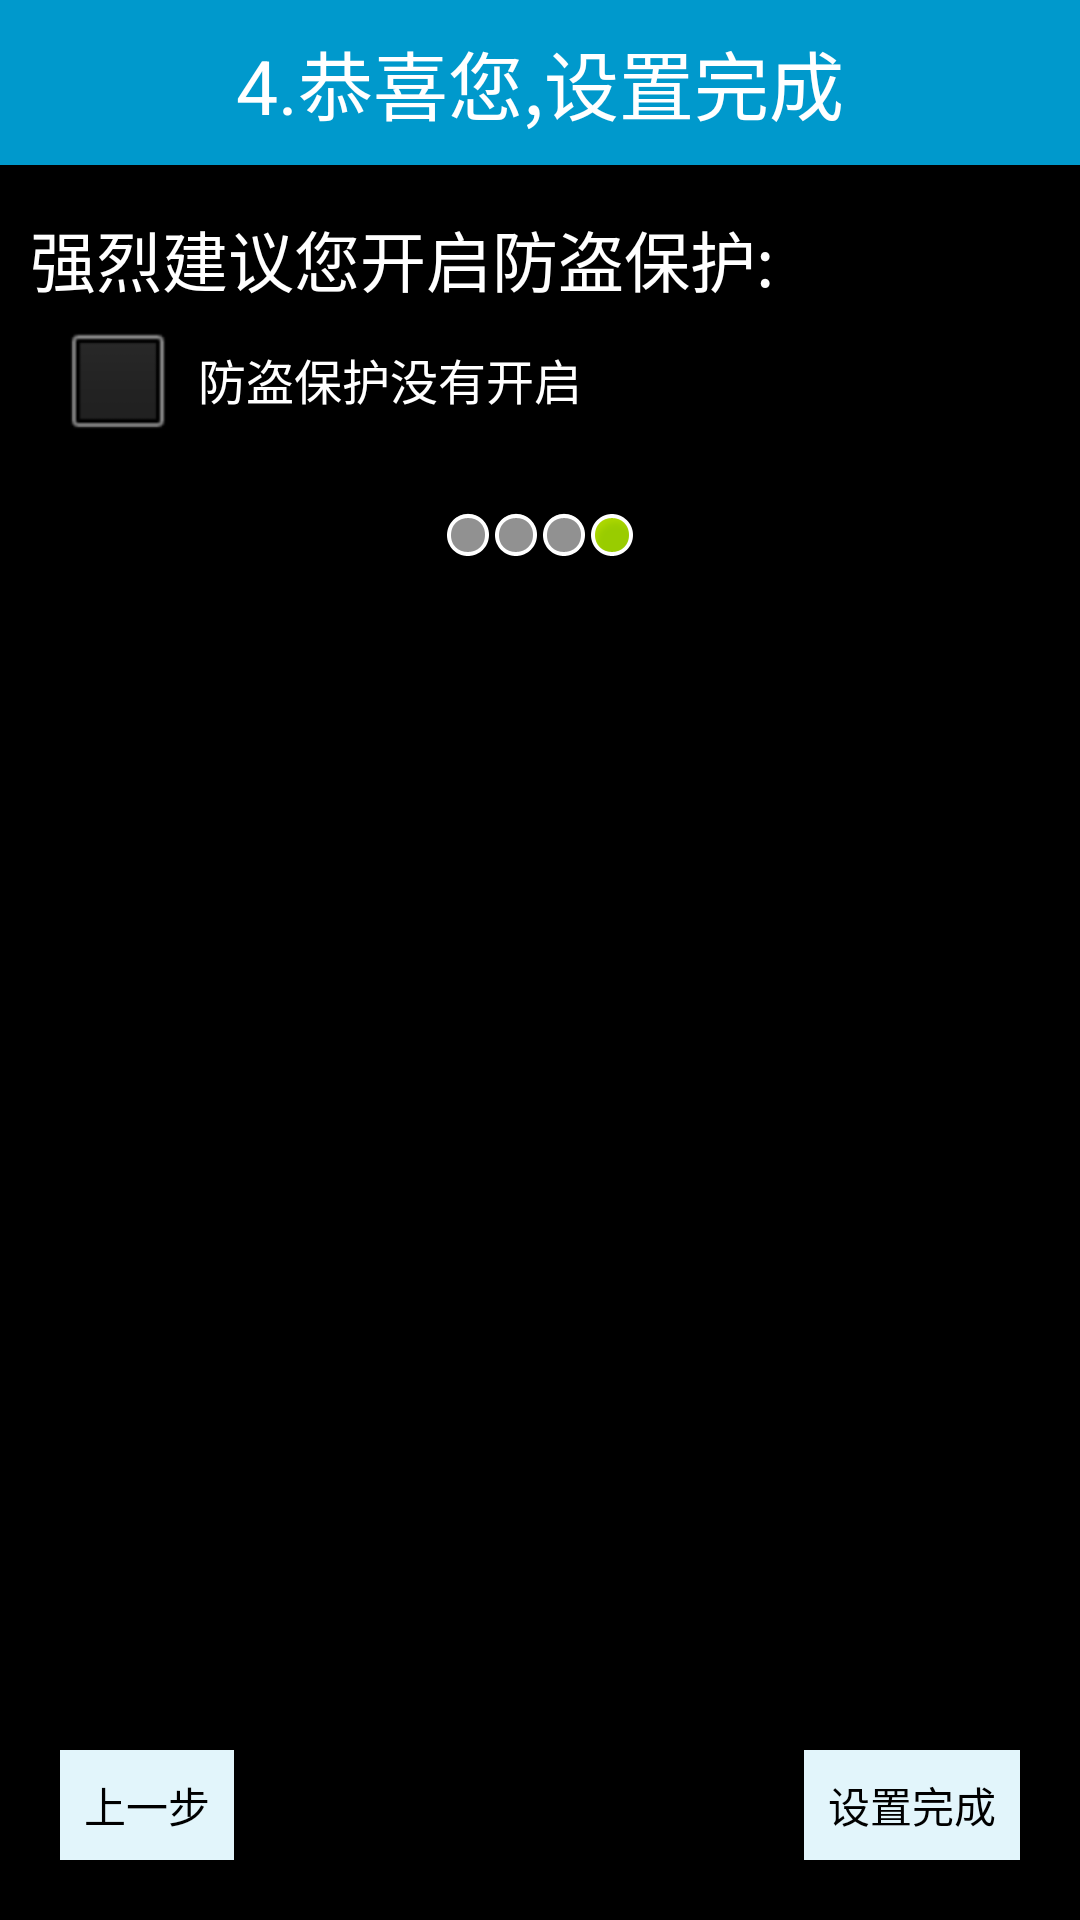

Screen size 1080×1920. Icon name, then its box in pixels as (x1, y1, x2, y2):
presence invisible: (447, 513, 489, 556), (495, 513, 537, 556), (543, 513, 585, 556)
presence online: (591, 514, 633, 556)
